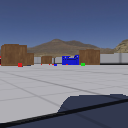blue_basket: (61, 54, 79, 65)
blue_cube: (54, 63, 57, 66)
green_cube: (80, 62, 85, 66)
obstacle: (1, 44, 27, 67), (79, 49, 100, 65), (41, 55, 52, 65), (26, 53, 34, 65)
red_cube: (18, 63, 22, 67), (65, 63, 68, 65), (48, 63, 50, 65), (41, 63, 43, 65), (52, 63, 53, 65)
